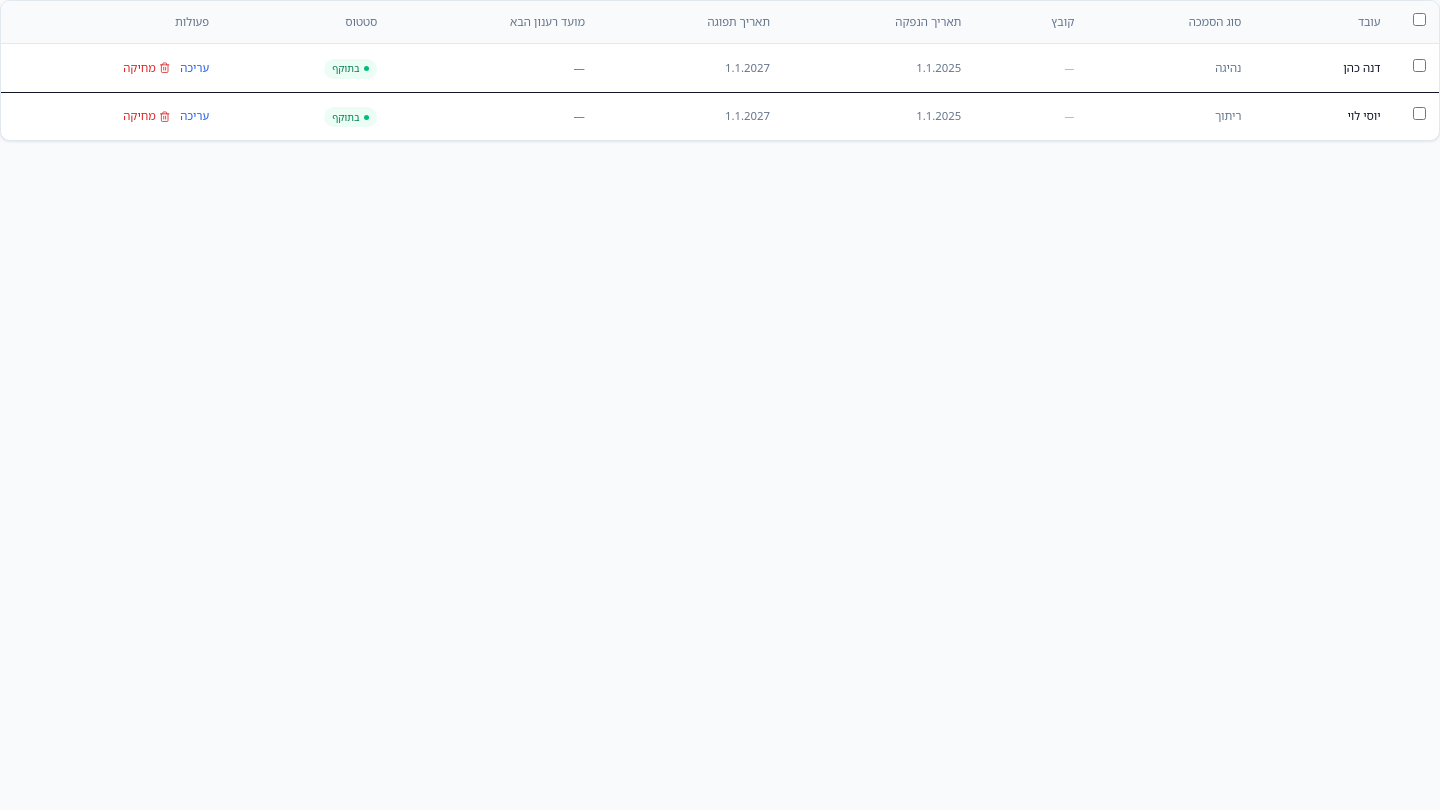
Test: CertificationsList — bulk delete flow › clicking 'מחק נבחרים' opens the dialog with selected names listed
What coordinates should you click on to do the following:
click the checkbox named "בחר דנה כהן — נהיגה"
I would click on:
 (1420, 66)
Its box is [1413,59,1426,72].
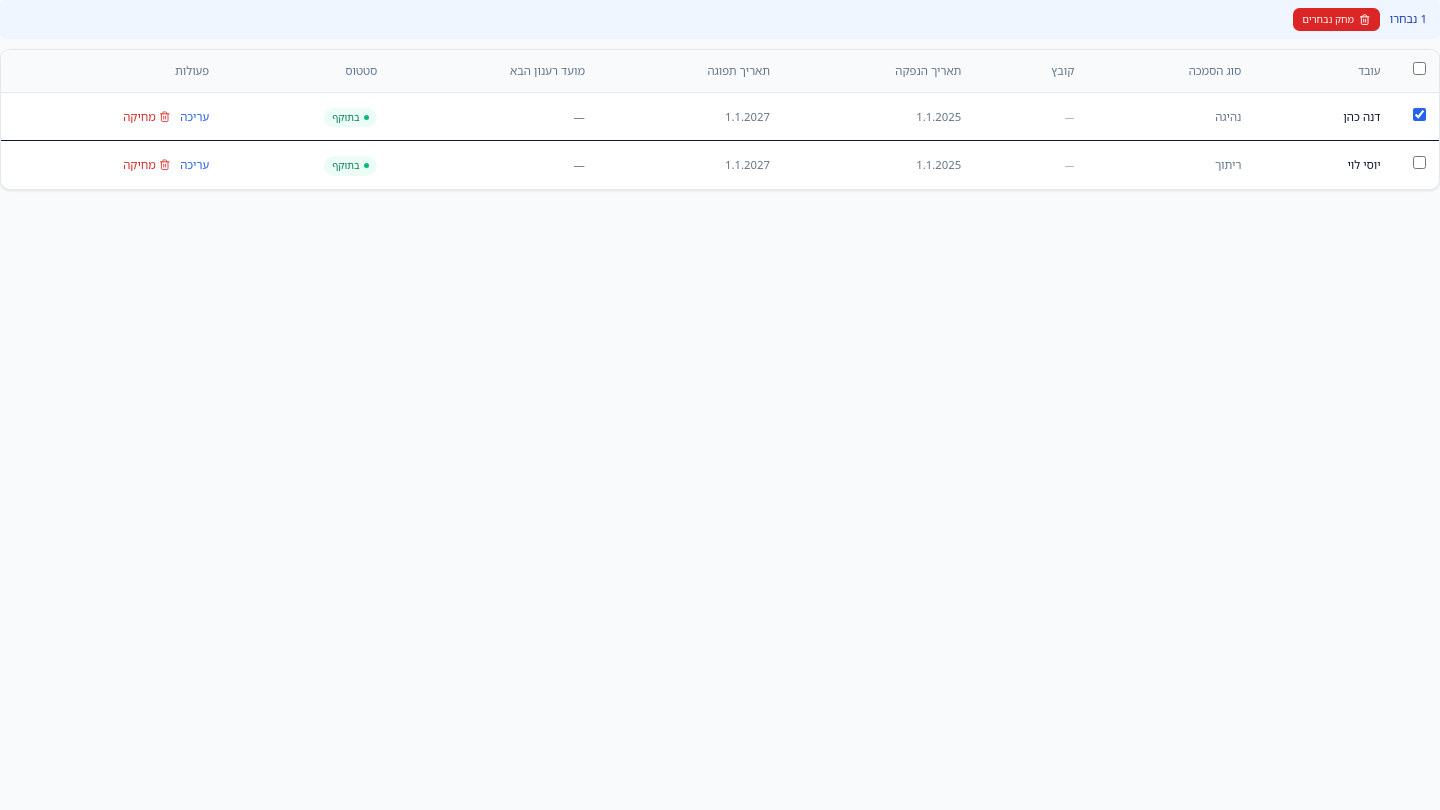
What coordinates should you click on to do the following:
click the checkbox named "בחר יוסי לוי — ריתוך"
I would click on:
 (1420, 163)
Its box is [1413,156,1426,169].
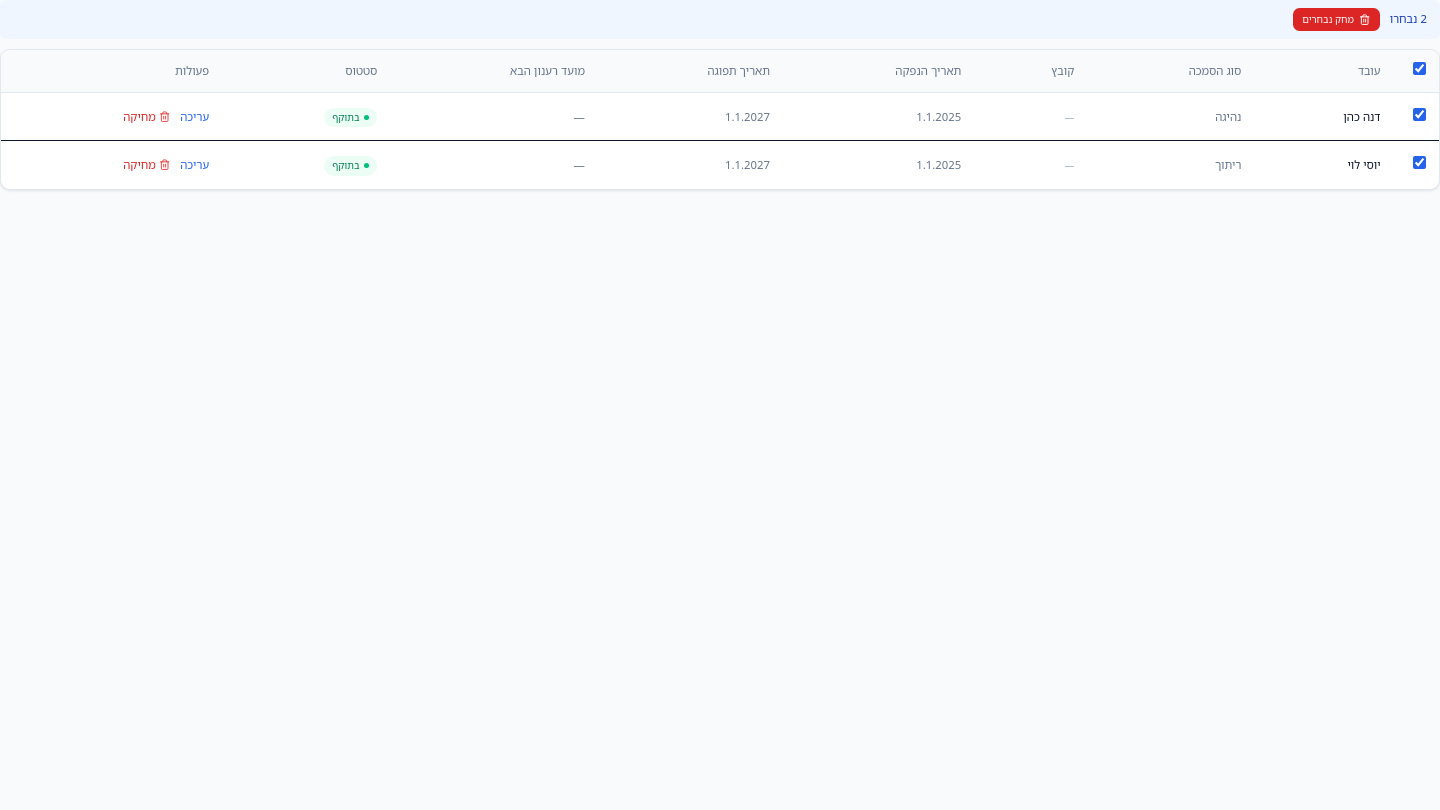
What coordinates should you click on to do the following:
click the button "מחק נבחרים"
I would click on:
 (1336, 20)
Its box is [1292,8,1380,31].
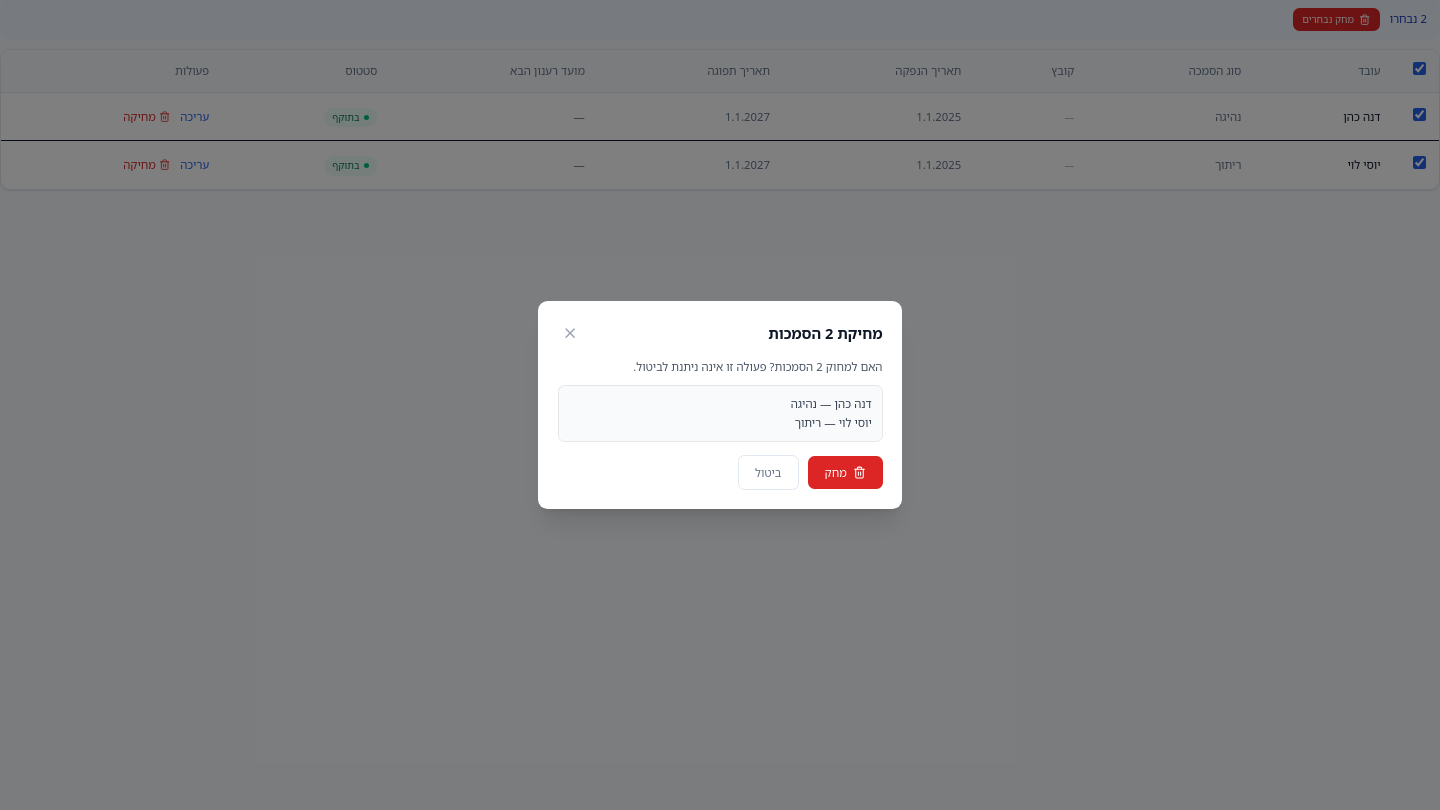
Expected: the list item "דנה כהן — נהיגה" is shown, [791,396,872,411]
Expected: the list item "יוסי לוי — ריתוך" is shown, [795,415,872,430]
